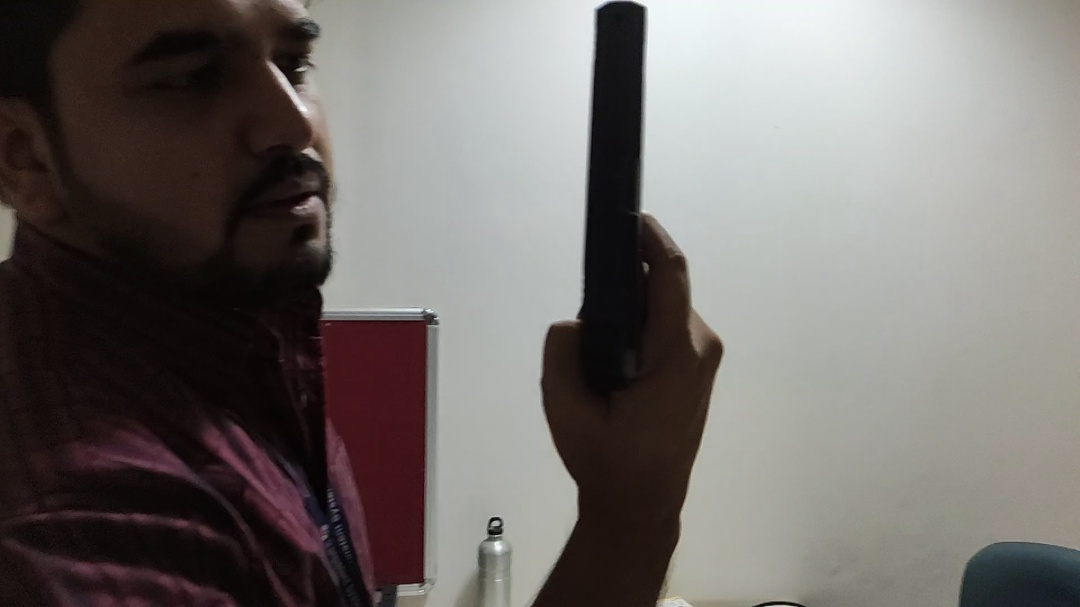gun: (545, 1, 720, 403)
